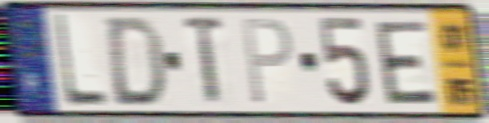5: (316, 14, 373, 109)
D: (106, 13, 166, 109)
E: (372, 18, 440, 108)
L: (51, 11, 110, 110)
P: (240, 15, 295, 108)
T: (183, 13, 227, 110)
